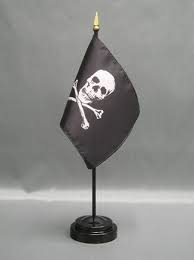Jolly Roger Flag: (57, 34, 146, 170)
